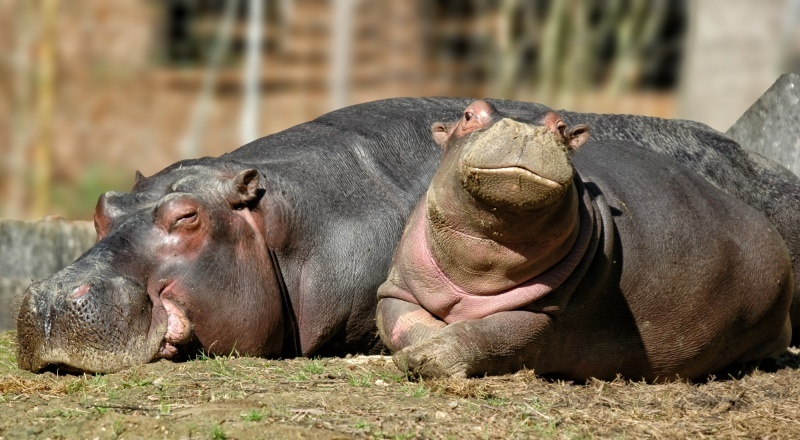hipopotamo: (379, 99, 797, 396), (14, 89, 433, 373)
